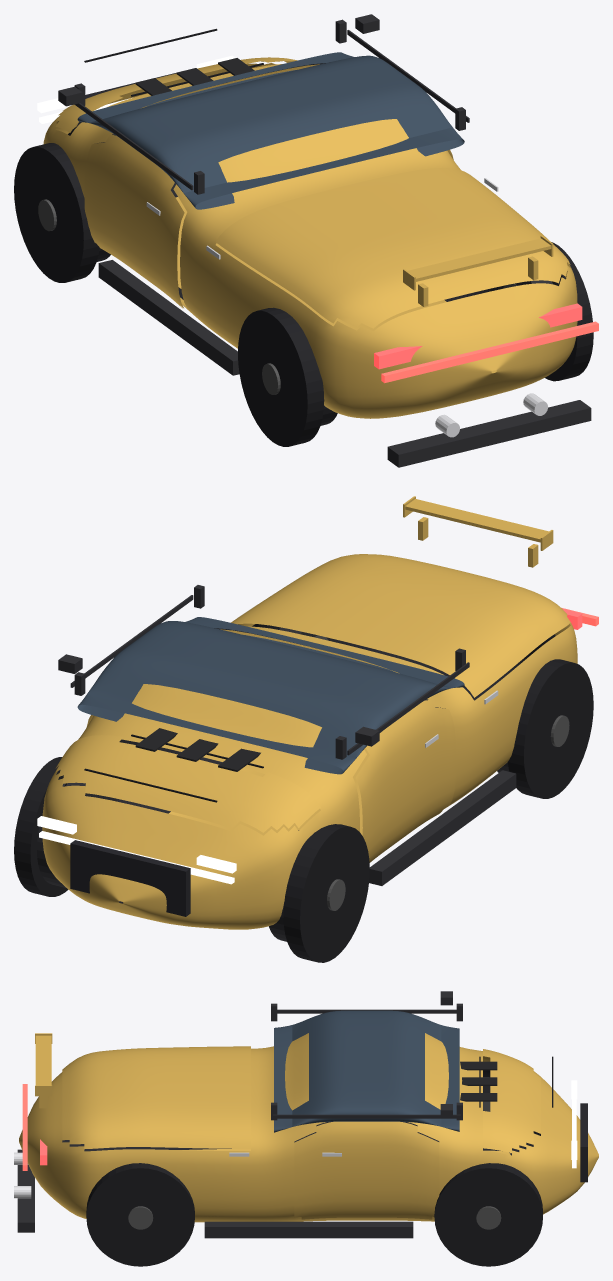
Rendered from car_gen_muscle.glb.
3 renders of one model, top to bottom at view 1: azimuth 30°, elevation 25°; view 2: azimuth 150°, elevation 25°; view 3: azimuth 270°, elevation 25°, orthographic. The views are drawn at different scales.
Visible parts, largest first — view 1: Body, Boot, Window, Door.001, Arch.003, Arch.001, Diffuser, Skirt, Rear_Light_Bar, Spoiler, Arch, Bonnet (+4 smaller); view 2: Body, Window, Boot, Bonnet, Door.001, Arch.001, Arch.003, Grille, Skirt, Arch.002, Spoiler, Interior (+4 smaller); view 3: Body, Boot, Window, Door, Arch, Arch.002, Bonnet, Skirt.001, Diffuser, Trim_Line.005, Spoiler, Interior (+5 smaller).
Boxes of the visible parts, bbox=[...] form: Body: bbox=[43, 62, 577, 418]; Boot: bbox=[215, 167, 570, 328]; Window: bbox=[77, 52, 464, 209]; Door.001: bbox=[84, 135, 184, 308]; Arch.003: bbox=[238, 307, 324, 446]; Arch.001: bbox=[14, 143, 99, 282]; Diffuser: bbox=[387, 400, 591, 467]; Skirt: bbox=[98, 260, 239, 375]; Rear_Light_Bar: bbox=[381, 321, 598, 383]; Spoiler: bbox=[408, 238, 551, 281]; Arch: bbox=[545, 242, 593, 381]; Bonnet: bbox=[55, 57, 297, 132]; Body: bbox=[42, 622, 577, 929]; Window: bbox=[77, 617, 464, 774]; Boot: bbox=[231, 554, 570, 697]; Bonnet: bbox=[55, 735, 320, 832]; Door.001: bbox=[355, 700, 456, 862]; Arch.001: bbox=[283, 824, 369, 962]; Arch.003: bbox=[508, 659, 593, 798]; Grille: bbox=[70, 840, 190, 916]; Skirt: bbox=[369, 770, 516, 885]; Arch.002: bbox=[14, 757, 68, 896]; Spoiler: bbox=[405, 499, 548, 542]; Interior: bbox=[64, 624, 555, 903]; Body: bbox=[19, 1033, 598, 1222]; Boot: bbox=[62, 1046, 250, 1149]; Window: bbox=[274, 1010, 459, 1132]; Door: bbox=[294, 1121, 439, 1219]; Arch: bbox=[86, 1163, 194, 1266]; Arch.002: bbox=[434, 1163, 542, 1266]; Bonnet: bbox=[483, 1049, 540, 1153]; Skirt.001: bbox=[204, 1221, 413, 1238]; Diffuser: bbox=[17, 1149, 34, 1232]; Trim_Line.005: bbox=[273, 1114, 460, 1118]; Spoiler: bbox=[35, 1035, 51, 1085]; Interior: bbox=[62, 1070, 540, 1155].
Bounding box in the file's own units: 2.28 × 1.45 × 4.74.
Materials: 17 (1 with a texture image).
